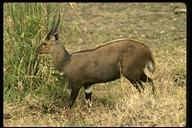antelope: (35, 11, 157, 109)
bush: (5, 5, 33, 96)
grass: (105, 89, 185, 123)
